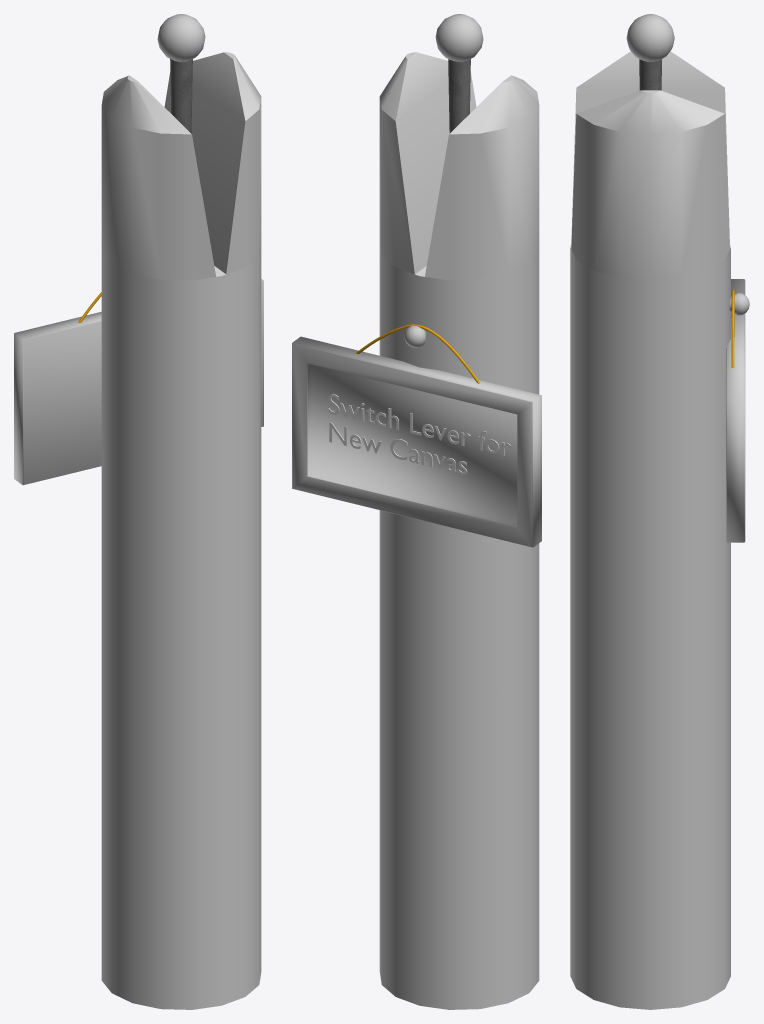
Rendered from ProjectHandel.fbx.
3 renders of one model, left to right at view 1: azimuth 30°, elevation 25°; view 2: azimuth 150°, elevation 25°; view 3: azimuth 270°, elevation 25°, orthographic.
Parts seen in each view (by area): view 1: Pilar, Plate, TopHandel, Handel; view 2: Pilar, Plate, TopHandel, Handel; view 3: Pilar, Plate, TopHandel, Handel.
Boxes of the visible parts, x1,y1,x2,y2 form: Pilar: [101, 52, 261, 1009]; Plate: [14, 279, 263, 485]; TopHandel: [157, 14, 205, 61]; Handel: [170, 59, 192, 133]; Pilar: [379, 52, 539, 1009]; Plate: [292, 324, 541, 547]; TopHandel: [435, 14, 483, 61]; Handel: [448, 59, 470, 133]; Pilar: [570, 51, 730, 1009]; Plate: [726, 279, 749, 542]; TopHandel: [626, 14, 674, 61]; Handel: [639, 59, 661, 90].
Size of the model in its own units: 34.58 by 132 by 22.32.
